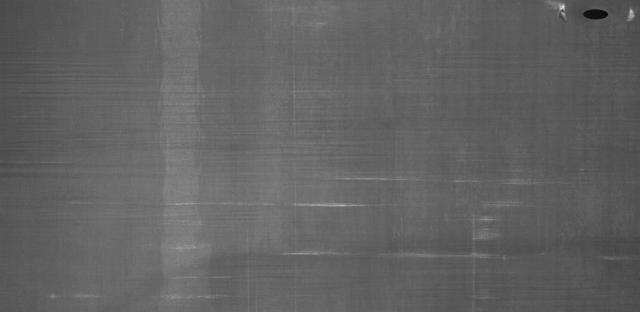punching_hole: (580, 5, 612, 22)
